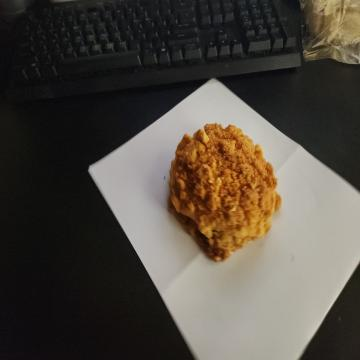soboru_bread: (168, 120, 281, 262)
